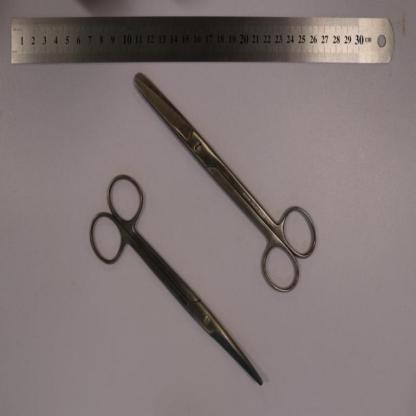Curved Mayo Scissors: (88, 173, 263, 386)
Dressing Scissors: (133, 72, 318, 294)
